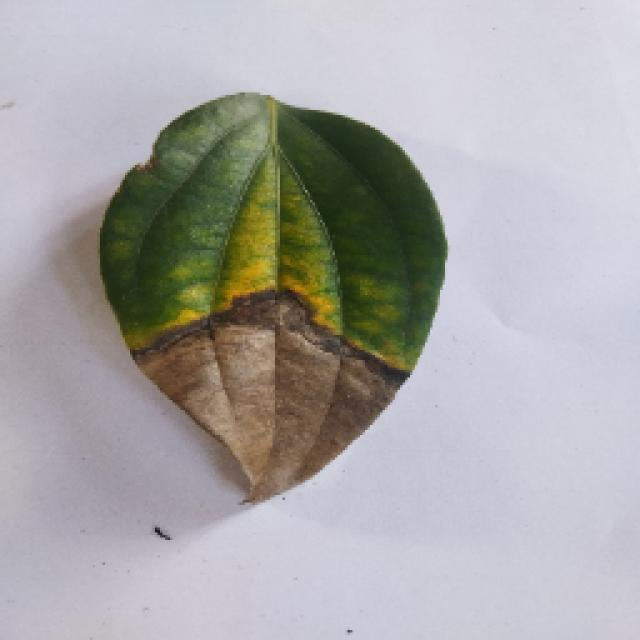footrot: (75, 85, 460, 517)
